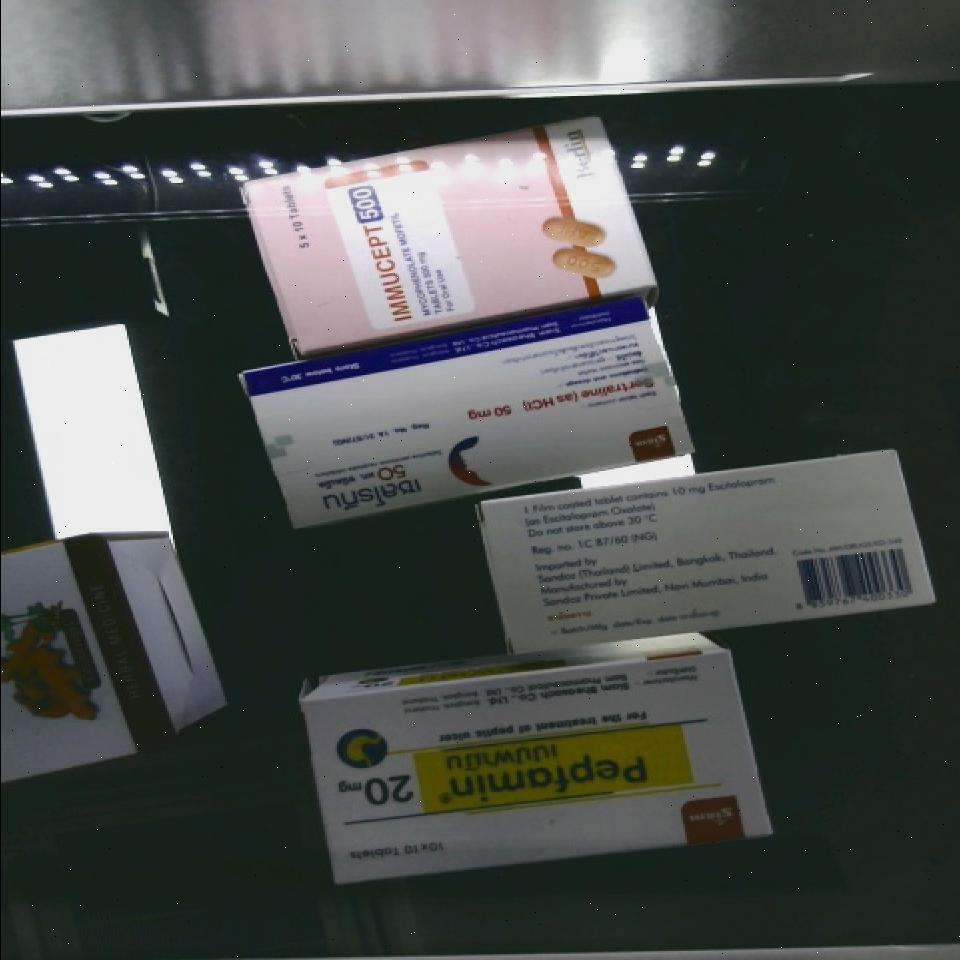medicine_box: (306, 642, 771, 886), (242, 289, 690, 534), (240, 108, 657, 361), (485, 451, 935, 655), (0, 524, 178, 782)
medicine_label_obb: (318, 729, 680, 827), (324, 168, 430, 340), (295, 448, 428, 527)
